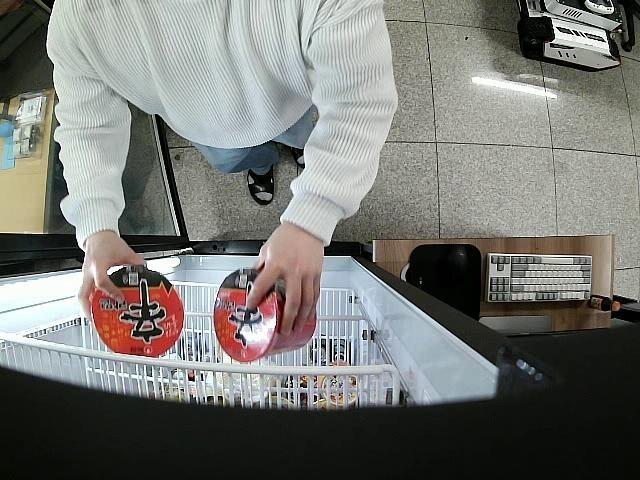01_ShinRamen_L: (214, 266, 318, 364), (92, 266, 185, 358)
